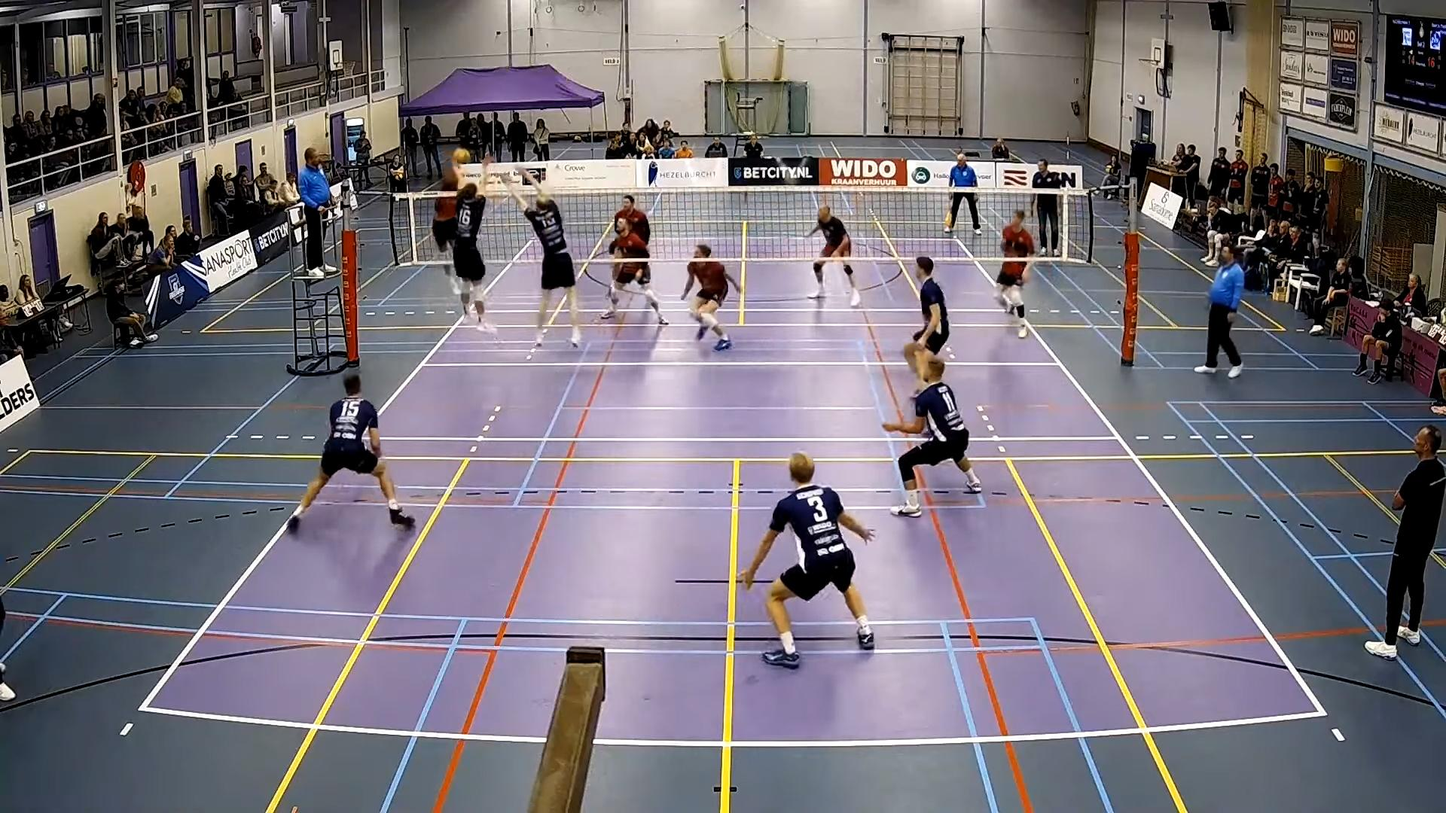attacco: (426, 148, 470, 301)
muro: (508, 164, 582, 349), (436, 155, 498, 323)
